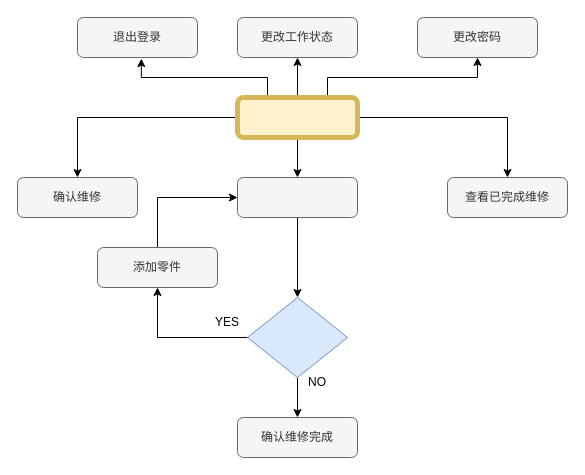
The diagram is 585 pixels wide and 475 high, and some of its shapes have lost their labels. Here are the shapes that lost their labels. From the top down, the box of each, then its label:
(234, 94, 360, 140): 维修员页面
(236, 176, 358, 218): 编辑进行中维修
(246, 296, 348, 378): 是否还需 添加零件
